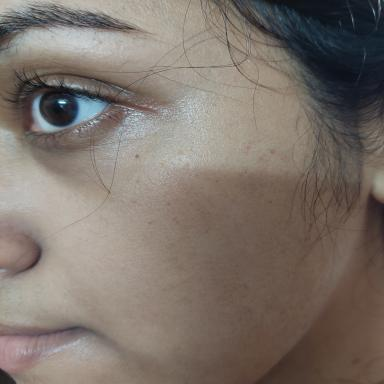normal skin: (2, 0, 382, 384), (187, 212, 188, 213)
